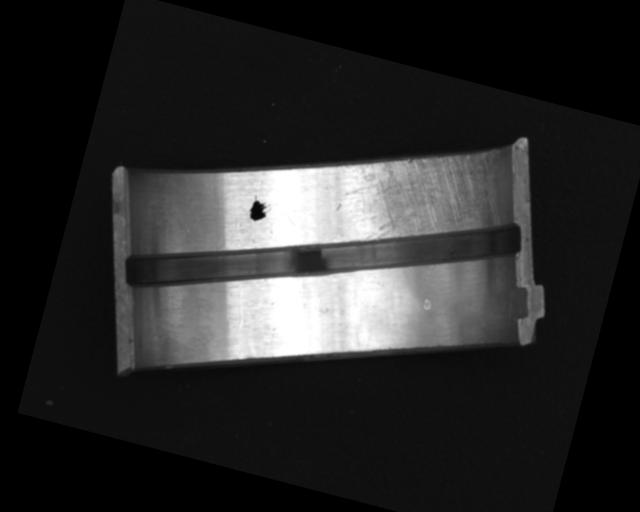blot: (245, 194, 272, 225)
bruise: (421, 296, 433, 311)
gap: (117, 131, 523, 378)
nick: (229, 280, 253, 328)
scratch: (330, 119, 501, 270)
